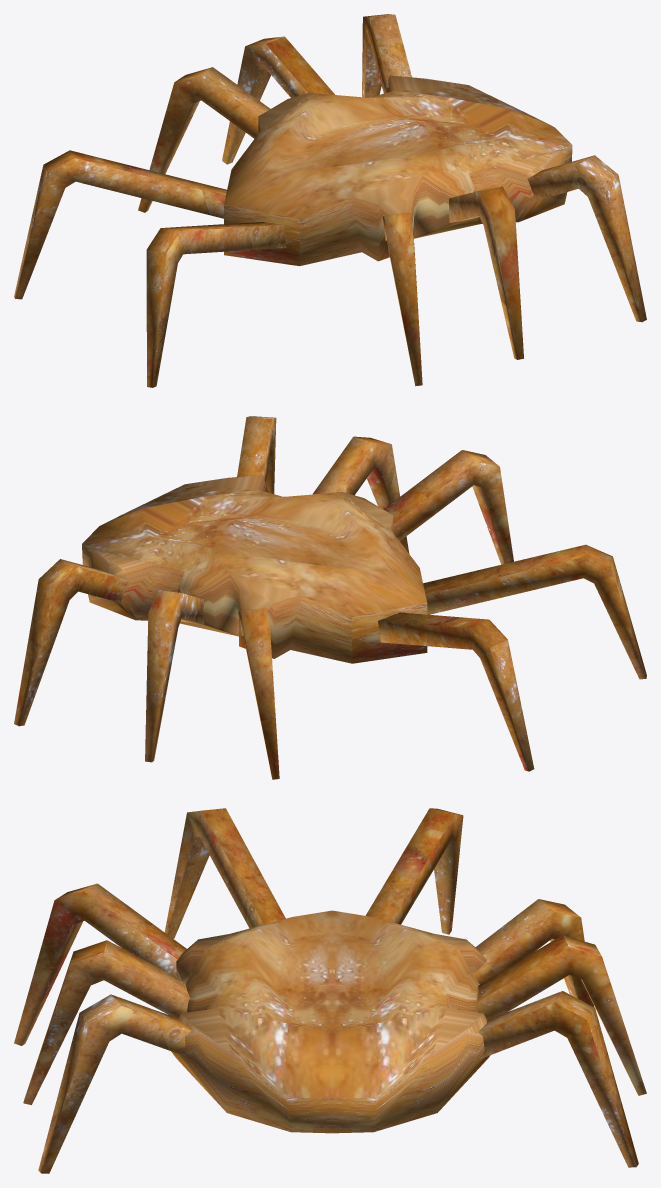
The model's file is Headcrab.fbx.
3 renders of one model, top to bottom at view 1: azimuth 30°, elevation 25°; view 2: azimuth 150°, elevation 25°; view 3: azimuth 270°, elevation 25°, orthographic. The views are drawn at different scales.
Parts seen in each view (by area): view 1: Alien, Leg.004, Leg.005, Leg, Leg.001, Leg.007, Leg.002, Leg.006, Leg.003; view 2: Alien, Leg.005, Leg.004, Leg.006, Leg.003, Leg.002, Leg.007, Leg.001, Leg; view 3: Alien, Leg.006, Leg.003, Leg.002, Leg, Leg.005, Leg.007, Leg.004, Leg.001.
Boxes of the visible parts, left/top/right/bottom form: Alien: left=224, top=75, right=572, bottom=266; Leg.004: left=14, top=150, right=226, bottom=299; Leg.005: left=146, top=222, right=286, bottom=387; Leg: left=527, top=155, right=646, bottom=322; Leg.001: left=138, top=67, right=270, bottom=212; Leg.007: left=449, top=186, right=523, bottom=359; Leg.002: left=222, top=36, right=334, bottom=164; Leg.006: left=383, top=212, right=422, bottom=386; Leg.003: left=362, top=14, right=411, bottom=97; Alien: left=82, top=474, right=427, bottom=663; Leg.005: left=423, top=544, right=646, bottom=679; Leg.004: left=378, top=612, right=534, bottom=771; Leg.006: left=383, top=450, right=513, bottom=564; Leg.003: left=14, top=559, right=133, bottom=726; Leg.002: left=145, top=590, right=204, bottom=762; Leg.007: left=313, top=436, right=409, bottom=553; Leg.001: left=238, top=607, right=279, bottom=779; Leg: left=237, top=416, right=276, bottom=493; Alien: left=171, top=910, right=490, bottom=1133; Leg.006: left=14, top=883, right=186, bottom=1045; Leg.003: left=478, top=991, right=638, bottom=1167; Leg.002: left=475, top=935, right=646, bottom=1095; Leg: left=38, top=994, right=191, bottom=1173; Leg.005: left=164, top=808, right=285, bottom=938; Leg.007: left=23, top=940, right=190, bottom=1104; Leg.004: left=365, top=808, right=463, bottom=934; Leg.001: left=473, top=899, right=593, bottom=1006.
Bounding box in the file's own units: 180 × 54.78 × 180.
